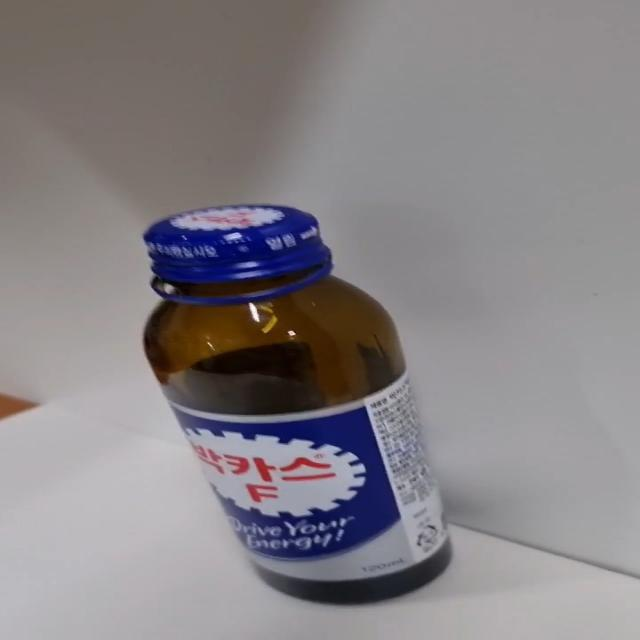Glass: (141, 204, 453, 608)
